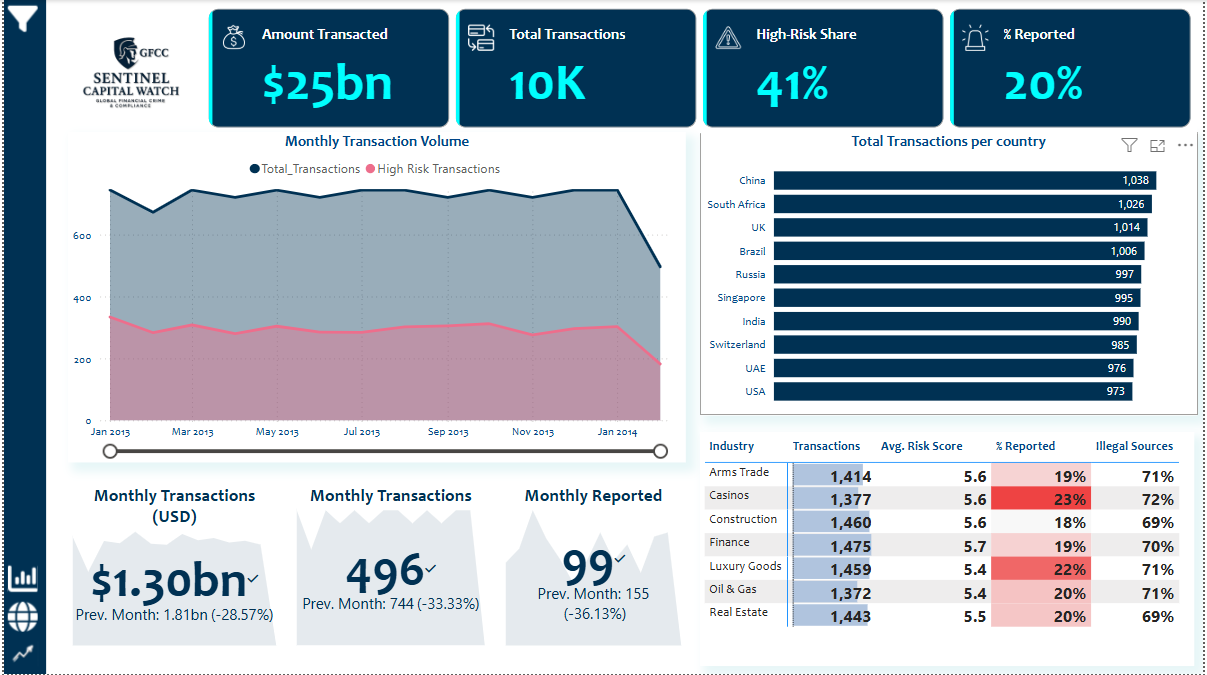

The page's visual inventory and layout, read from the dashboard file:
{"tool":"powerbi","page":{"name":"Overview","canvas":[1280,720],"ordinal":0},"visuals":[{"type":"barChart","title":"Total Transactions per country ","fields":{"Category":["capital_watch country.Country_Name"],"Y":["Measures Table.Total_Transactions"]},"box":[743.8,141.2,531.2,302.5],"z":0},{"type":"actionButton","box":[0,598.8,45,40.4],"z":0,"group":"g1"},{"type":"cardVisual","fields":{"Data":["Measures Table.Total_Transaction_Amount","Measures Table.Total_Transactions","Measures Table.% High-Risk Transactions","Measures Table.% Reported by Authorites"]},"box":[213.8,3.8,1061.2,137.5],"z":1000},{"type":"actionButton","box":[0,639.2,45,40.4],"z":1000,"group":"g1"},{"type":"areaChart","title":"Monthly Transaction Volume","fields":{"Category":["Calender_Table.Start of Month"],"Y":["Measures Table.Total_Transactions","Measures Table.High Risk Transactions"]},"box":[68.8,141.2,660,352.5],"z":2000},{"type":"actionButton","box":[0,678.6,45,41.2],"z":2000,"group":"g1"},{"type":"image","box":[56.2,11.2,157.5,130],"z":3000},{"type":"pivotTable","title":"Flow of Transactions from Countries to Tax Havens","fields":{"Rows":["capital_watch industry.Industry_Name"],"Values":["Measures Table.Total_Transactions","Measures Table.Avg. Risk Score","Measures Table.% Reported by Authorites","Measures Table.IllegalSourcePct"]},"box":[743.8,461.2,527.5,250],"z":4000},{"type":"shape","title":"Left Nav Background","box":[0,0,45,720],"z":5000},{"type":"kpi","title":"Monthly Transactions (USD)","fields":{"Indicator":["Measures Table.Total_Transaction_Amount"],"TrendLine":["Calender_Table.Start of Month"],"Goal":["Measures Table.Last Month Amount"]},"box":[68.8,517.5,227.5,177.5],"z":6000},{"type":"kpi","title":"Monthly Transactions","fields":{"TrendLine":["Calender_Table.Start of Month"],"Goal":["Measures Table.Prev Month TXN Volume"],"Indicator":["Measures Table.Total_Transactions"]},"box":[308.1,517.5,211.2,177.5],"z":7000},{"type":"kpi","title":"Monthly Reported","fields":{"TrendLine":["Calender_Table.Start of Month"],"Indicator":["Measures Table.Total_Transactions_Reported"],"Goal":["Measures Table.Prev Month TXN Reported"]},"box":[531.2,517.5,197.5,177.5],"z":8000},{"type":"group","id":"g1","title":"Nav Buttons","box":[0,598.8,45,121.2],"z":9000},{"type":"actionButton","title":"Filter Button","box":[0,0,45,40],"z":11000}]}

Visuals, with their boxes in screenshot pixels (x1, y1, x2, y2), scaled from the page's 1280x720 canvas onto the 1207x675 screenshot:
"Total Transactions per country " barChart: x1=701, y1=132, x2=1202, y2=416
actionButton: x1=0, y1=561, x2=42, y2=599
cardVisual - Measures Table.Total_Transaction_Amount x Measures Table.Total_Transactions: x1=202, y1=4, x2=1202, y2=132
actionButton: x1=0, y1=599, x2=42, y2=637
"Monthly Transaction Volume" areaChart: x1=65, y1=132, x2=687, y2=463
actionButton: x1=0, y1=636, x2=42, y2=674
image: x1=53, y1=10, x2=202, y2=132
"Flow of Transactions from Countries to Tax Havens" pivotTable: x1=701, y1=432, x2=1199, y2=667
"Left Nav Background" shape: x1=0, y1=0, x2=42, y2=674
"Monthly Transactions (USD)" kpi: x1=65, y1=485, x2=279, y2=652
"Monthly Transactions" kpi: x1=291, y1=485, x2=490, y2=652
"Monthly Reported" kpi: x1=501, y1=485, x2=687, y2=652
"Nav Buttons" group: x1=0, y1=561, x2=42, y2=674
"Filter Button" actionButton: x1=0, y1=0, x2=42, y2=38
